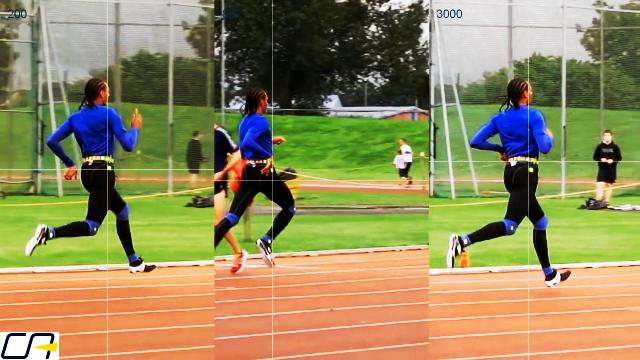berlari: (444, 73, 578, 294), (22, 71, 156, 285), (216, 80, 300, 278)
